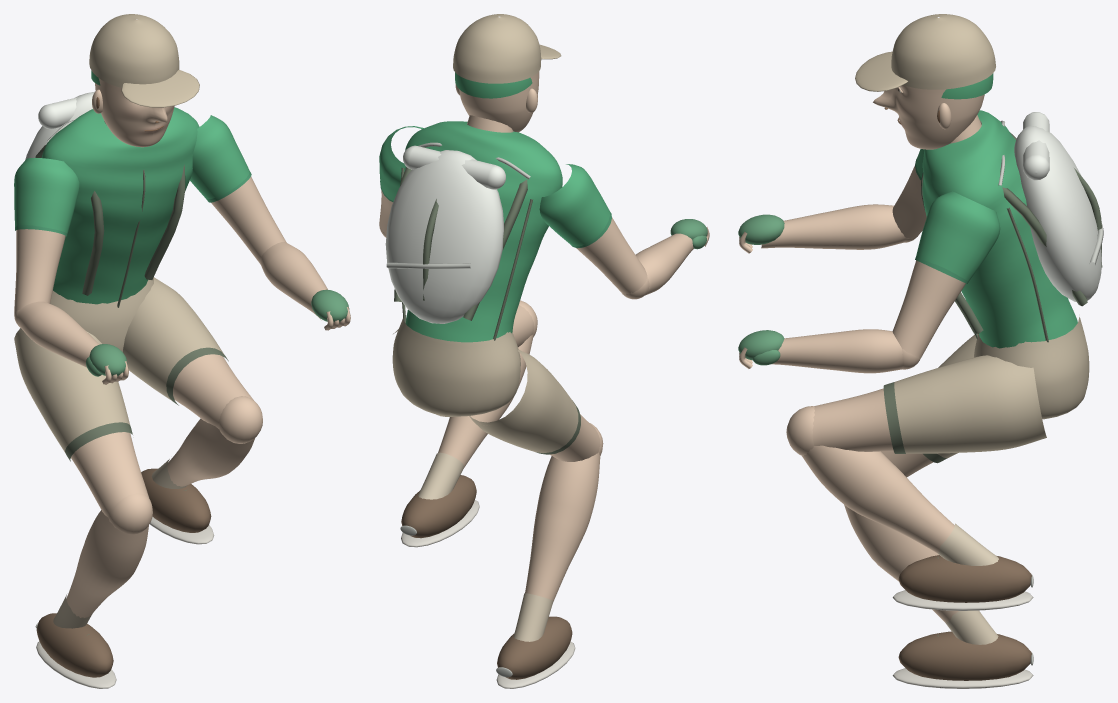
File: courier-char3.glb
3 renders of one model, left to right at view 1: azimuth 30°, elevation 25°; view 2: azimuth 150°, elevation 25°; view 3: azimuth 270°, elevation 25°, orthographic. The views are drawn at different scales.
Visible parts, largest first — view 1: rider-torso, thigh-left, rider-head, thigh-right, upper-arm-left, upper-arm-right, shin-left, foot-left, shin-right, foot-right, forearm-left, anatomical-bicycle-courier (+5 smaller); view 2: rider-torso, anatomical-bicycle-courier, rider-head, shin-left, thigh-left, upper-arm-left, foot-left, shin-right, foot-right, forearm-left, upper-arm-right, hand-left (+1 smaller); view 3: rider-torso, thigh-right, rider-head, upper-arm-right, shin-right, foot-left, foot-right, anatomical-bicycle-courier, forearm-left, forearm-right, shin-left, upper-arm-left (+4 smaller).
Part boxes in pixels (<box>): rider-torso: <box>25,91,199,307</box>; thigh-left: <box>14,328,148,516</box>; rider-head: <box>89,14,199,147</box>; thigh-right: <box>123,277,253,428</box>; upper-arm-left: <box>14,157,79,311</box>; upper-arm-right: <box>190,115,286,263</box>; shin-left: <box>53,510,148,628</box>; foot-left: <box>35,613,116,688</box>; shin-right: <box>151,418,254,488</box>; foot-right: <box>141,468,214,544</box>; forearm-left: <box>17,301,101,375</box>; anatomical-bicycle-courier: <box>50,278,153,351</box>; rider-torso: <box>385,115,562,342</box>; anatomical-bicycle-courier: <box>392,318,520,416</box>; rider-head: <box>453,14,561,132</box>; shin-left: <box>513,452,600,641</box>; thigh-left: <box>469,350,600,461</box>; upper-arm-left: <box>539,164,647,294</box>; foot-left: <box>496,616,575,688</box>; shin-right: <box>418,334,533,499</box>; foot-right: <box>400,475,479,547</box>; forearm-left: <box>635,233,693,295</box>; upper-arm-right: <box>379,126,423,234</box>; hand-left: <box>670,219,709,249</box>; rider-torso: <box>921,110,1103,348</box>; thigh-right: <box>812,355,1046,453</box>; rider-head: <box>855,14,995,149</box>; upper-arm-right: <box>892,191,1000,358</box>; shin-right: <box>802,445,998,565</box>; foot-left: <box>892,631,1033,688</box>; foot-right: <box>892,555,1033,610</box>; anatomical-bicycle-courier: <box>974,317,1089,419</box>; forearm-left: <box>761,204,905,249</box>; forearm-right: <box>771,329,902,373</box>; shin-left: <box>844,504,998,644</box>; upper-arm-left: <box>892,149,926,238</box>.
Bounding box in the file's own units: 0.6252 × 1.39 × 0.6676.
